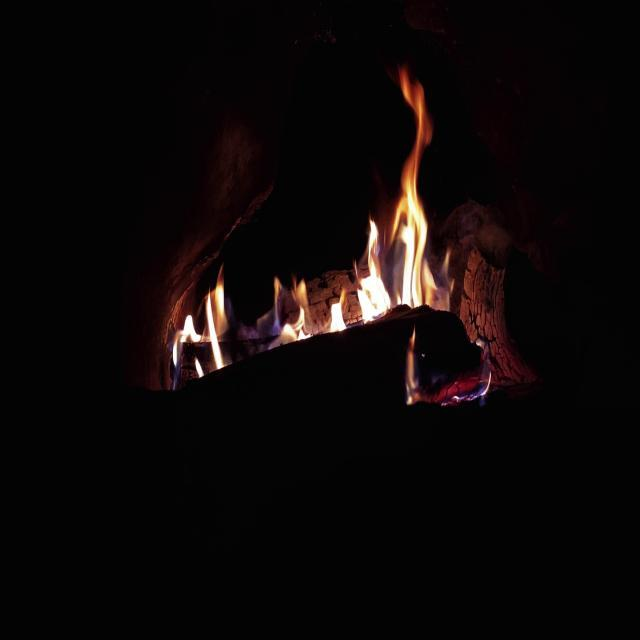Fire: (357, 121, 440, 324), (262, 262, 356, 346), (171, 268, 233, 386)
